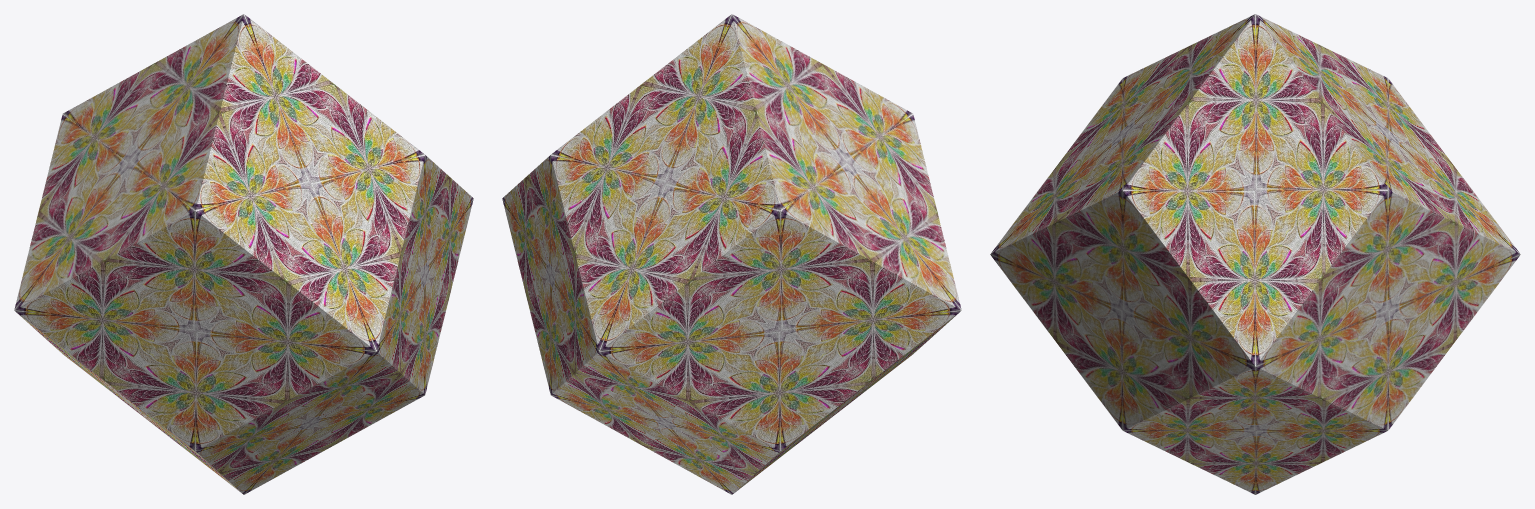
The model's file is RhombicDodecahedron4.obj.
The picture shows the model from 3 angles, left to right: view 1: azimuth 30°, elevation 25°; view 2: azimuth 150°, elevation 25°; view 3: azimuth 270°, elevation 25°; orthographic projection.
Bounding box in the file's own units: 2.12 × 2.12 × 2.12.
1 material, 1 textured.
